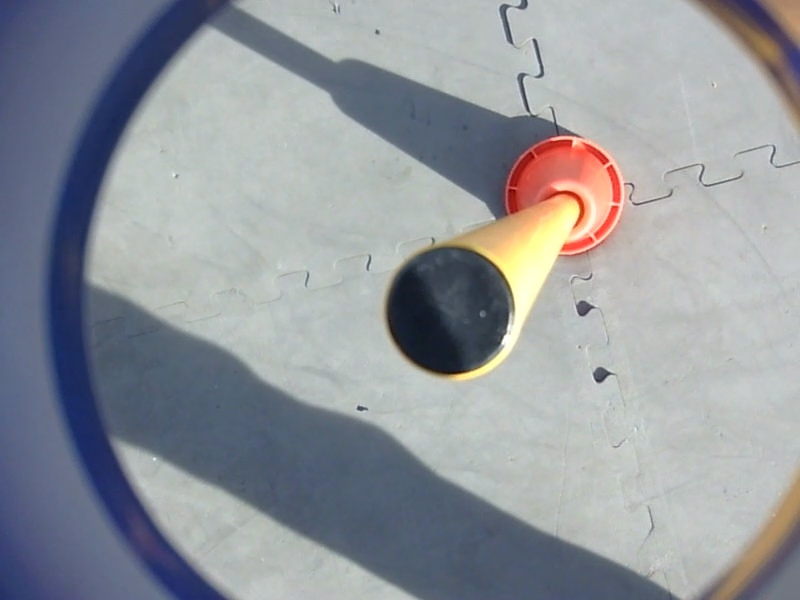tip: (377, 238, 527, 387)
